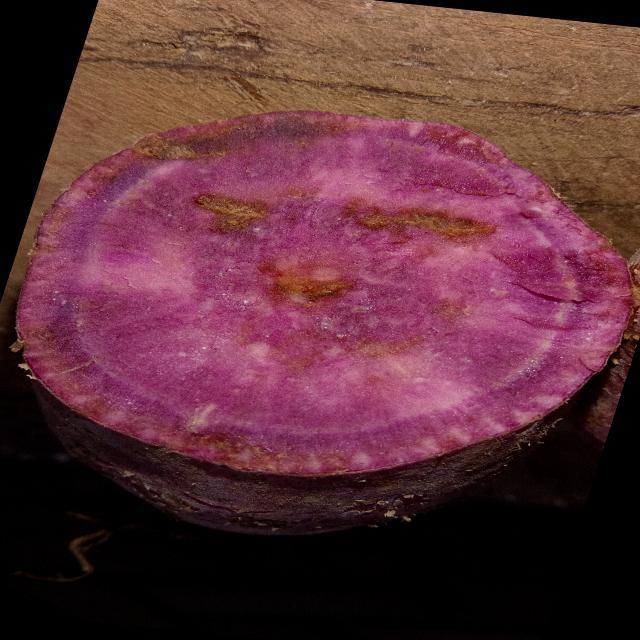Sick Sweet Potato_Tuber Rot: (18, 111, 629, 474)
